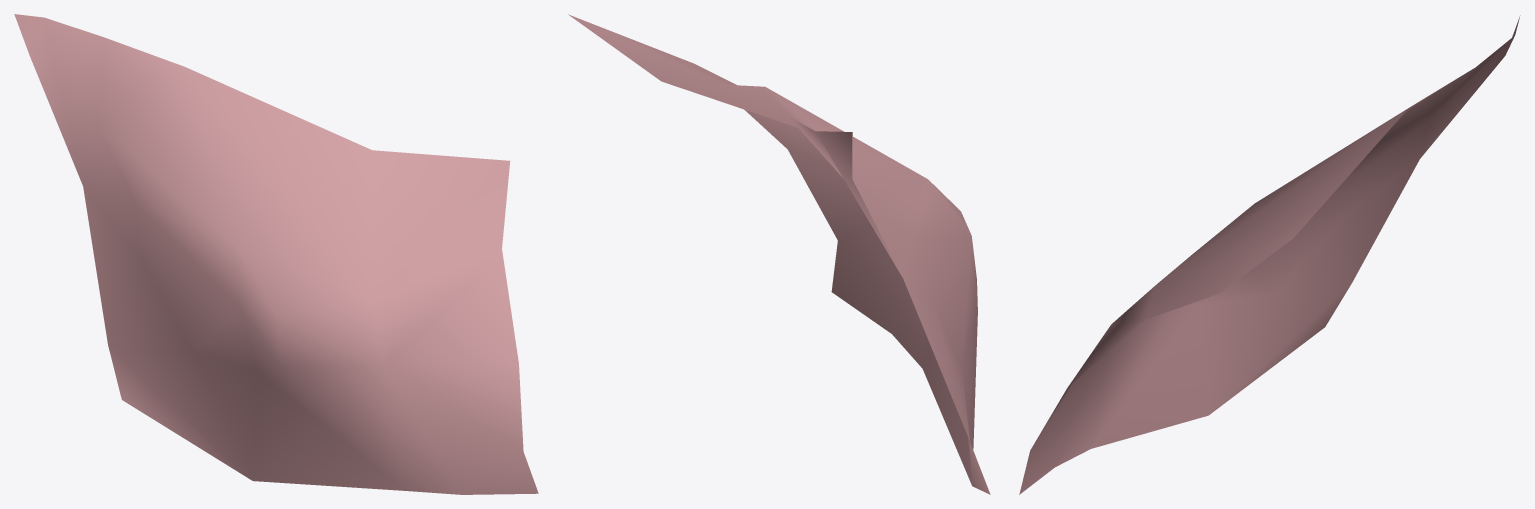
The picture shows the model from 3 angles, left to right: view 1: azimuth 30°, elevation 25°; view 2: azimuth 150°, elevation 25°; view 3: azimuth 270°, elevation 25°; orthographic projection. The views are drawn at different scales.
Parts seen in each view (by area): view 1: ZA_c8479330410b8bb5; view 2: ZA_c8479330410b8bb5; view 3: ZA_c8479330410b8bb5.
Part boxes in pixels (box(x1,y1,x2,y2)): ZA_c8479330410b8bb5: box(14, 14, 538, 494); ZA_c8479330410b8bb5: box(568, 14, 990, 494); ZA_c8479330410b8bb5: box(1019, 15, 1520, 494).
Size of the model in its own units: 0.0108 by 0.0111 by 0.0139.
